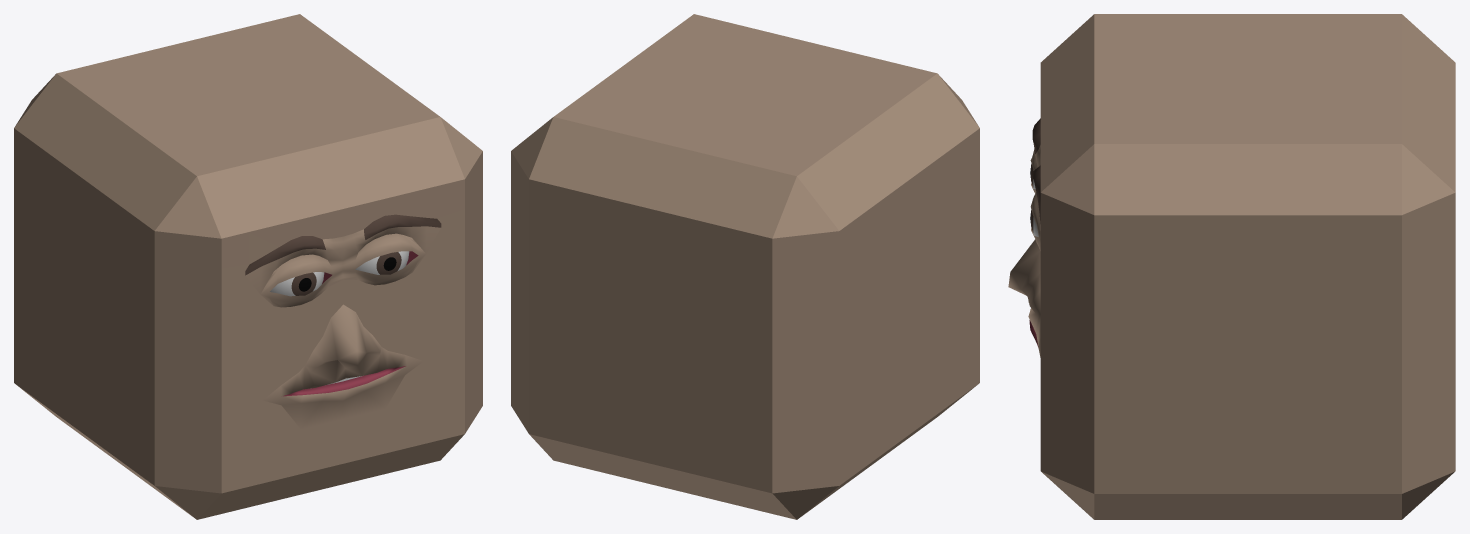
The model's file is boxHead.fbx.
3 renders of one model, left to right at view 1: azimuth 30°, elevation 25°; view 2: azimuth 150°, elevation 25°; view 3: azimuth 270°, elevation 25°, orthographic. The views are drawn at different scales.
Visible parts, largest first — view 1: boxhead_norm_001; view 2: boxhead_norm_001; view 3: boxhead_norm_001.
Part boxes in pixels (<box>): boxhead_norm_001: <box>14,14,482,519</box>; boxhead_norm_001: <box>511,14,979,519</box>; boxhead_norm_001: <box>1008,14,1455,519</box>.
Size of the model in its own units: 2 by 2 by 2.16.
